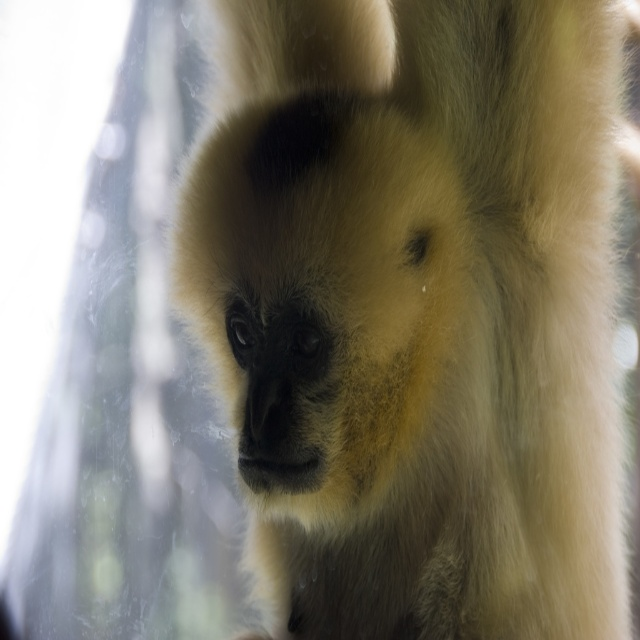Monkey: (168, 0, 640, 640)
